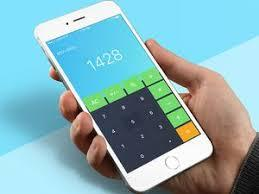Calculator: (80, 46, 204, 170)
